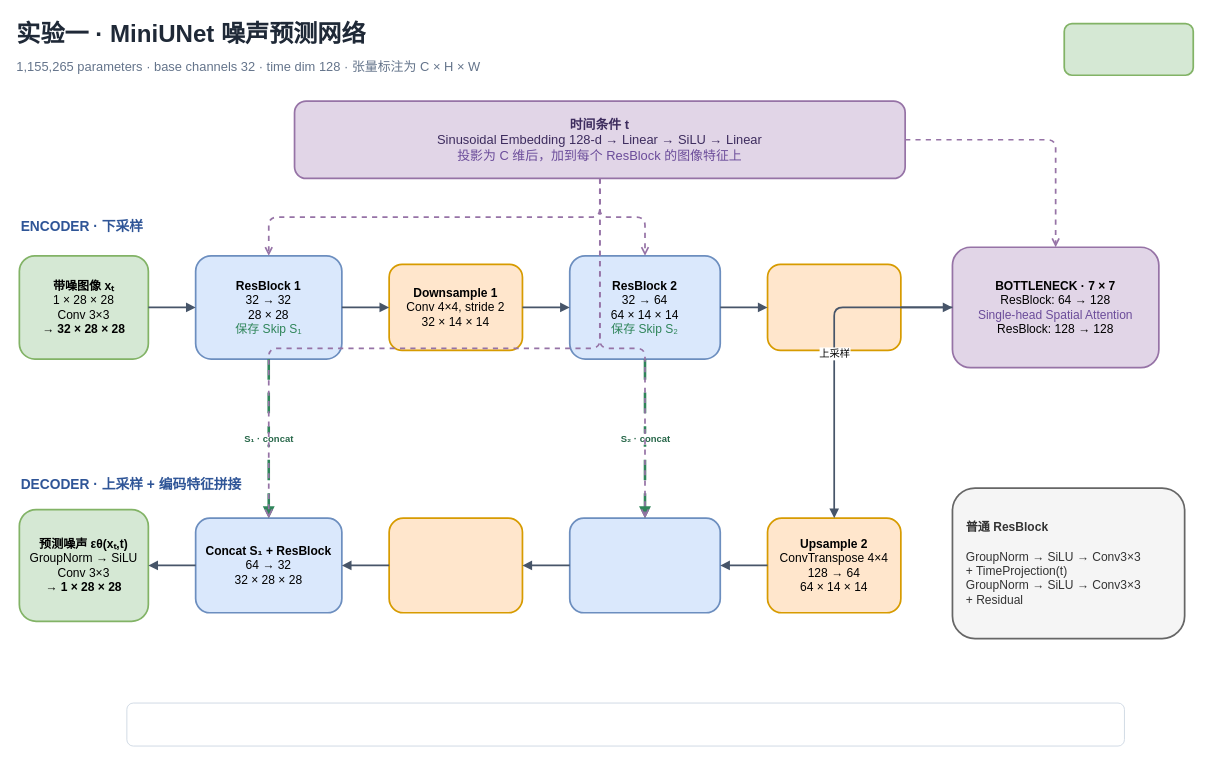
This 1208x761 diagram has some shape labels left out. The shapes that lost their labels are listed below. From the top down, each one's box as (x1, y1, x2, y2) in pixels, then its label:
(1063, 22, 1194, 76): 1.16M 轻量基线
(766, 263, 901, 351): Downsample 2 Conv 4×4, stride 2 64 × 7 × 7
(388, 517, 523, 613): Upsample 1 ConvTranspose 4×4 64 → 32 32 × 28 × 28
(568, 517, 721, 613): Concat S₂ + ResBlock 128 → 64 64 × 14 × 14
(126, 702, 1124, 746): 颜色说明 绿色：输入/输出 蓝色：残差特征处理 橙色：尺寸变换 紫色：时间或注意力 绿色虚线：skip connection
